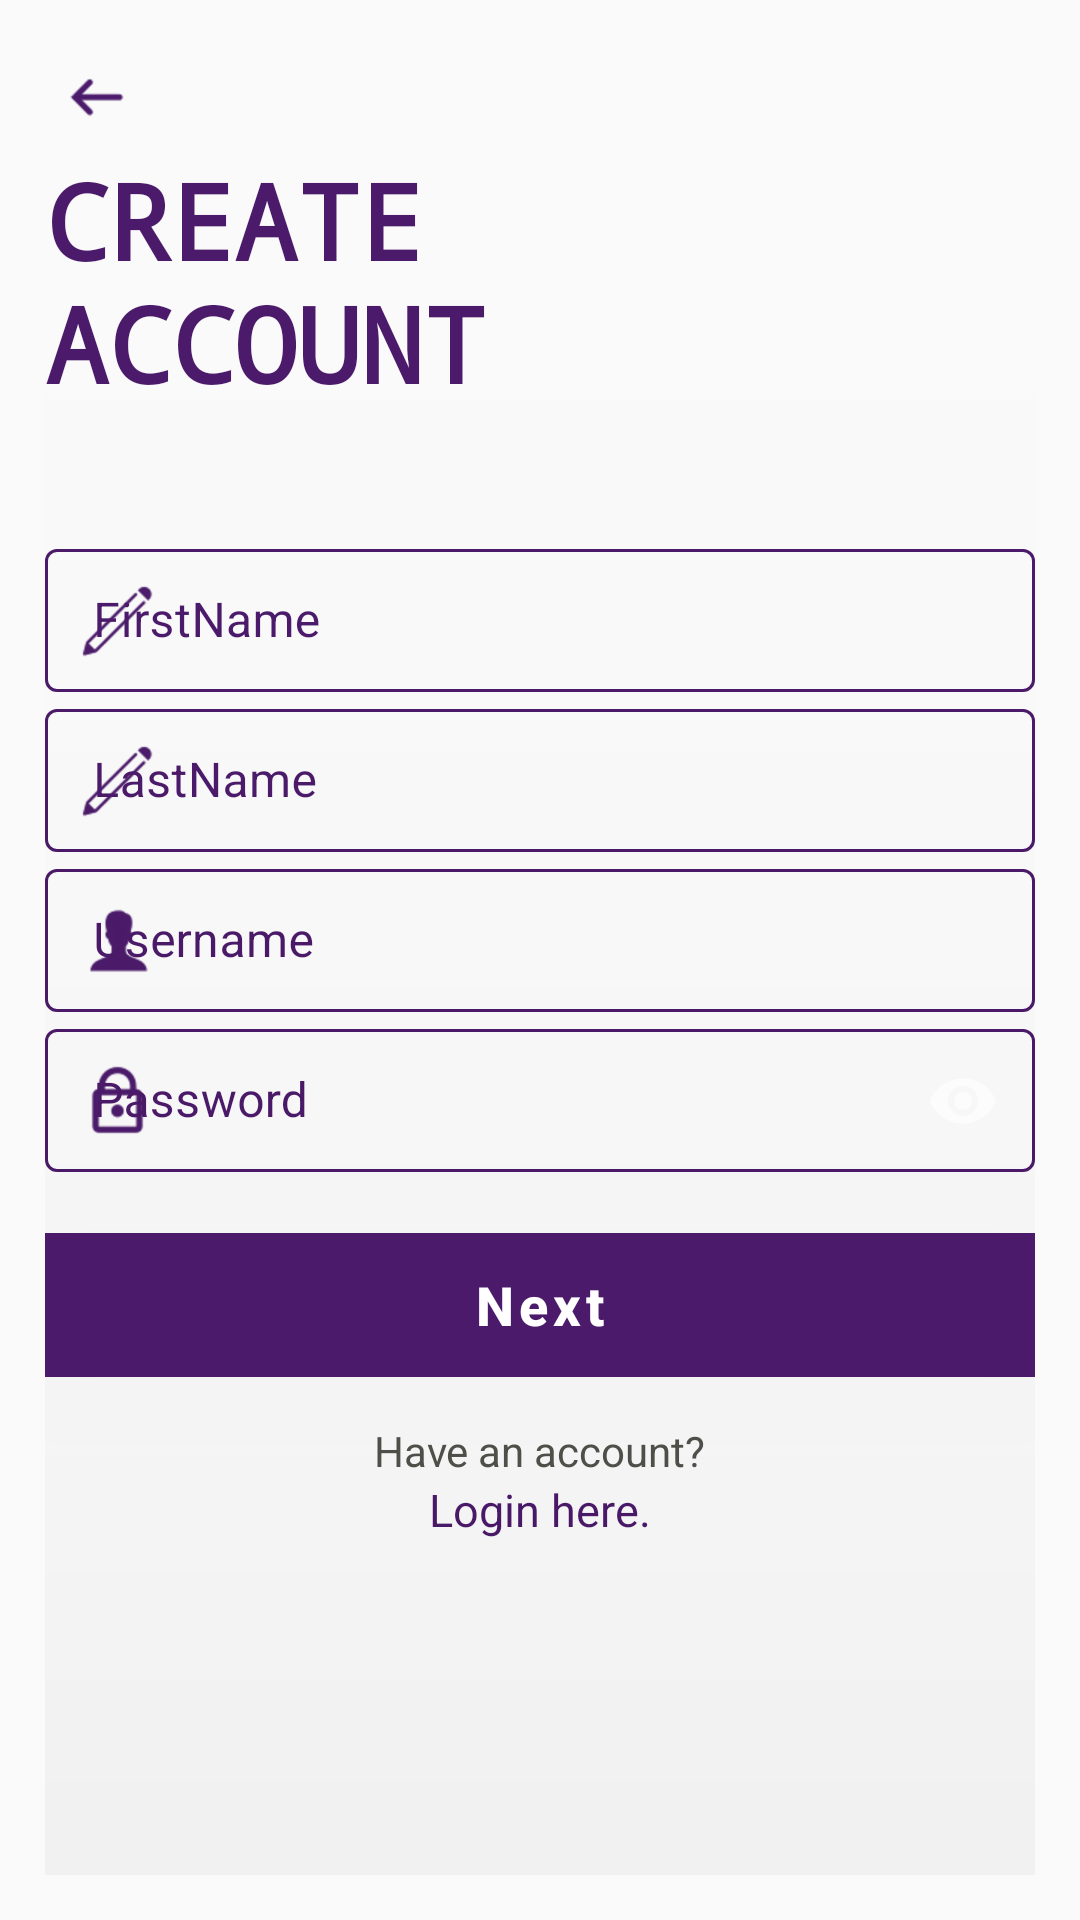

Named icons in this screenshot (1080*1920) and their bounding boxes, (x1=x1, y1=y1, x2=x2, y2=y2):
left: (x1=70, y1=79, x2=123, y2=116)
